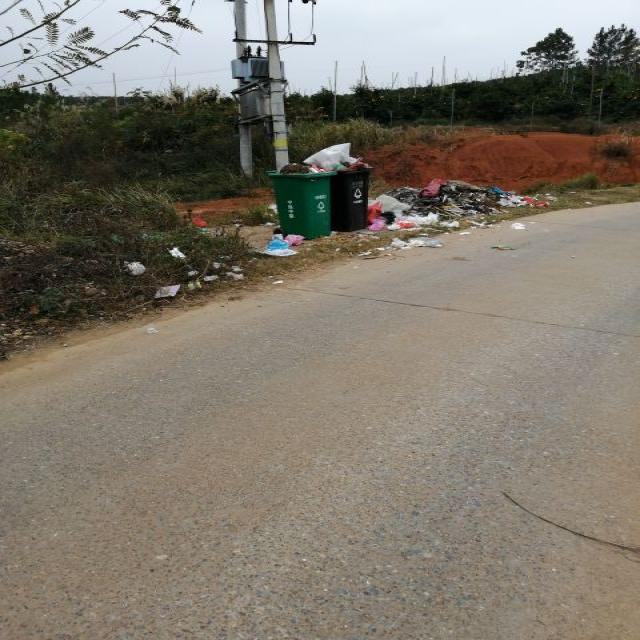garbage: (124, 215, 303, 297), (366, 178, 554, 248)
overflow: (302, 141, 374, 231), (265, 162, 335, 239)
